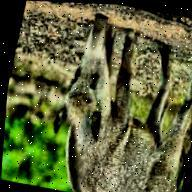boar: (36, 13, 192, 192)
